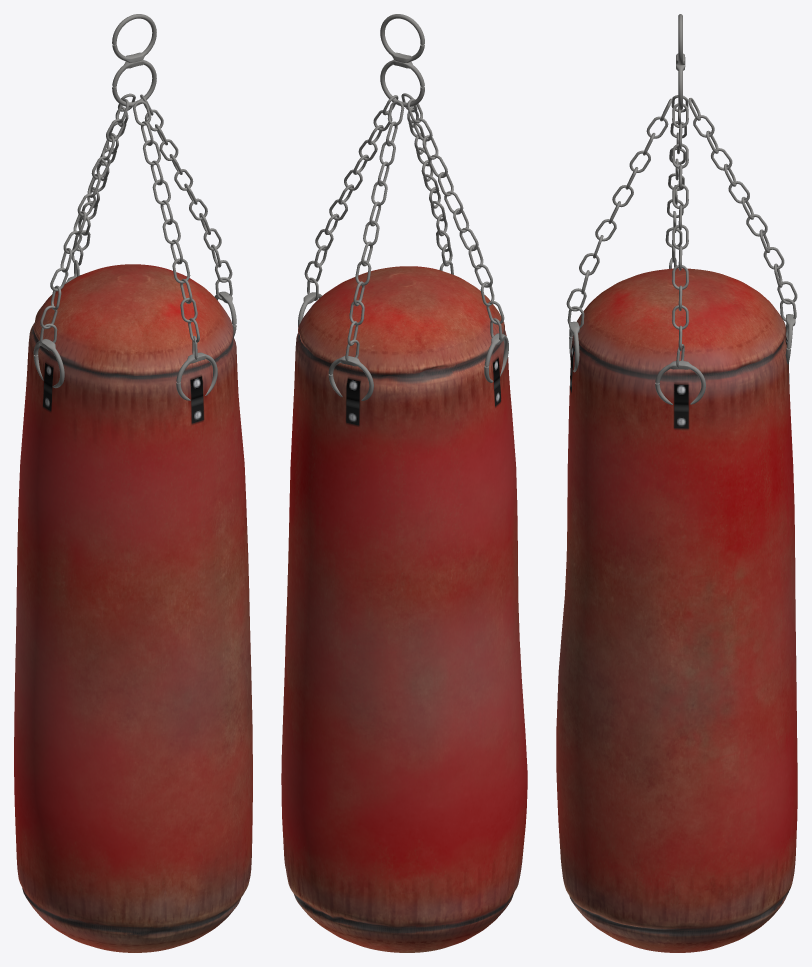
The picture shows the model from 3 angles, left to right: view 1: azimuth 30°, elevation 25°; view 2: azimuth 150°, elevation 25°; view 3: azimuth 270°, elevation 25°; orthographic projection.
Parts seen in each view (by area): view 1: Boxing_Bag, pTorus24, pTorus23, pTorus21, pTorus22, pTorus3, pTorus2, pTorus6, pTorus7; view 2: Boxing_Bag, pTorus22, pTorus23, pTorus21, pTorus24, pTorus3, pTorus2, pTorus8; view 3: Boxing_Bag, pTorus22, pTorus24, pTorus21, pTorus23, pTorus5.
Part boxes in pixels (<box>): Boxing_Bag: <box>14,264,252,952</box>; pTorus24: <box>133,100,199,359</box>; pTorus23: <box>40,99,128,343</box>; pTorus21: <box>140,94,232,300</box>; pTorus22: <box>71,93,135,276</box>; pTorus3: <box>112,14,156,62</box>; pTorus2: <box>112,59,156,106</box>; pTorus6: <box>176,352,217,400</box>; pTorus7: <box>33,339,64,388</box>; Boxing_Bag: <box>281,266,527,952</box>; pTorus22: <box>345,100,404,361</box>; pTorus23: <box>407,98,504,340</box>; pTorus21: <box>304,95,398,300</box>; pTorus24: <box>401,93,453,274</box>; pTorus3: <box>380,14,424,62</box>; pTorus2: <box>380,60,424,107</box>; pTorus8: <box>328,355,373,400</box>; Boxing_Bag: <box>556,268,797,952</box>; pTorus22: <box>688,98,797,321</box>; pTorus24: <box>566,98,672,328</box>; pTorus21: <box>672,103,688,367</box>; pTorus23: <box>665,95,688,268</box>; pTorus5: <box>655,361,705,404</box>.
Size of the model in its own units: 0.0209 by 0.0879 by 0.0208.
Materials: 2 (2 with a texture image).
